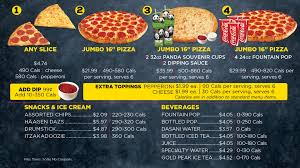coke: (215, 17, 253, 48)
